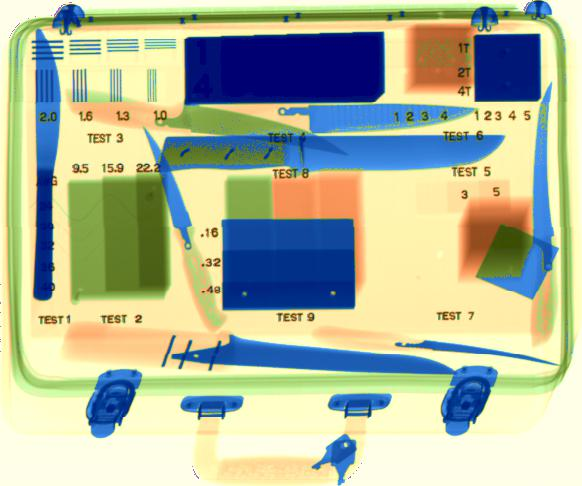Knife: (144, 124, 227, 333), (149, 329, 458, 374), (158, 134, 509, 173), (146, 100, 350, 159), (313, 326, 560, 367), (30, 26, 61, 303), (527, 81, 558, 352), (276, 103, 474, 136)
